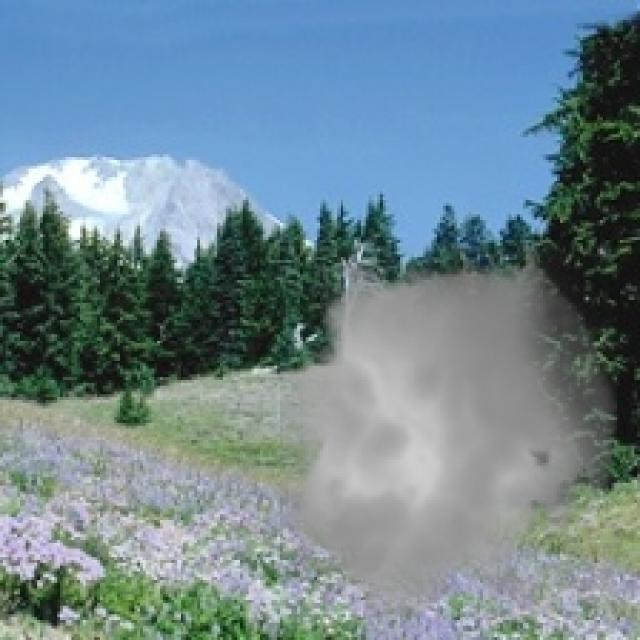Smoke: (262, 242, 628, 634)
